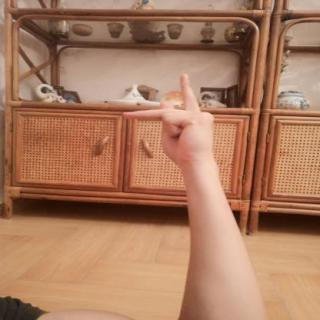DHAA: (114, 68, 223, 175)
